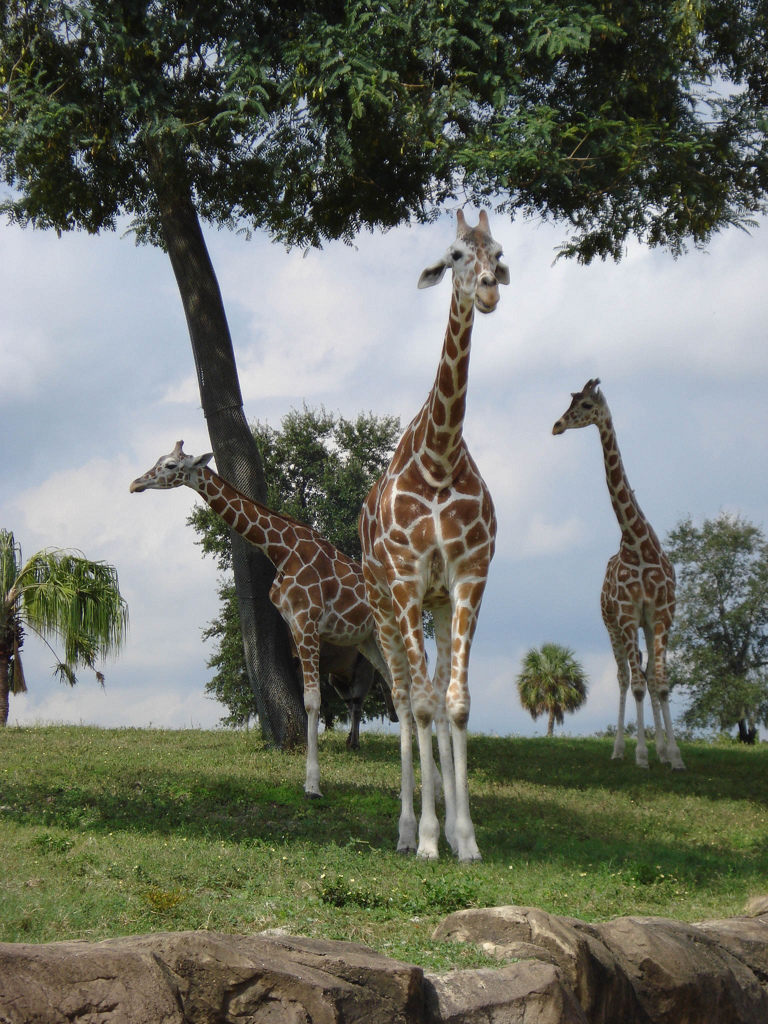giraffe: (360, 184, 522, 892), (120, 429, 388, 814)
